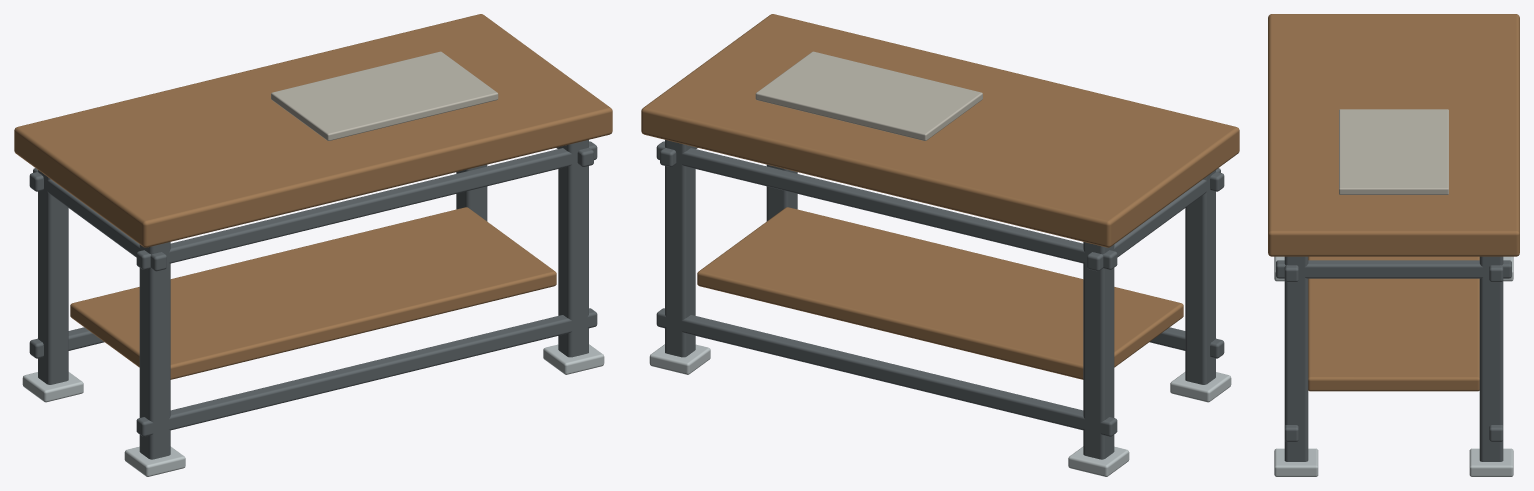
The model's file is glassblowing-studio-and-gallery-packing-bench-6ab81daa__29623.glb.
3 renders of one model, left to right at view 1: azimuth 30°, elevation 25°; view 2: azimuth 150°, elevation 25°; view 3: azimuth 270°, elevation 25°, orthographic. The views are drawn at different scales.
Visible parts, largest first — view 1: packing-bench; view 2: packing-bench; view 3: packing-bench.
Part boxes in pixels (x1,y1,x2,y2): packing-bench: (14,14,612,476); packing-bench: (641,14,1239,476); packing-bench: (1268,14,1519,476).
Size of the model in its own units: 1.65 by 0.895 by 0.7999.
